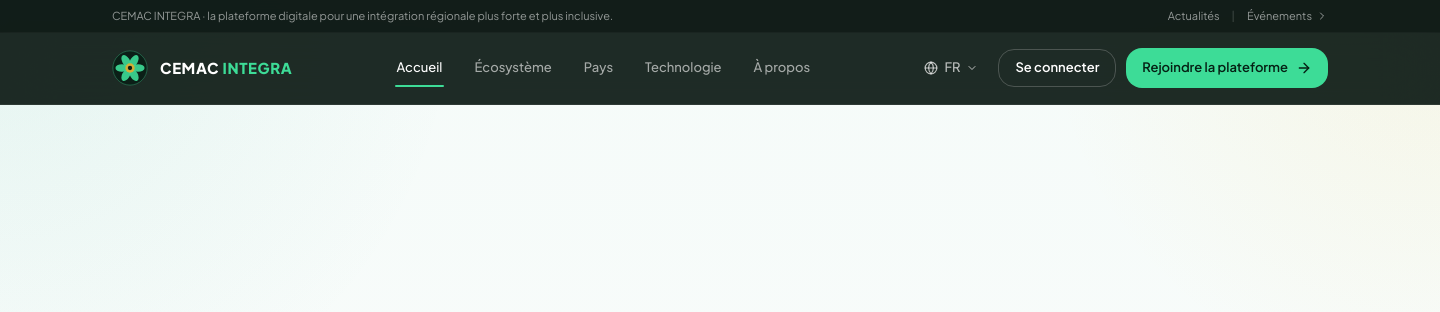
Scenario: LandingNav — language switcher › opens language dropdown on click
This screenshot has width=1440, height=312.
Click the button "FR" at [951, 68], box [914,50,988,86]
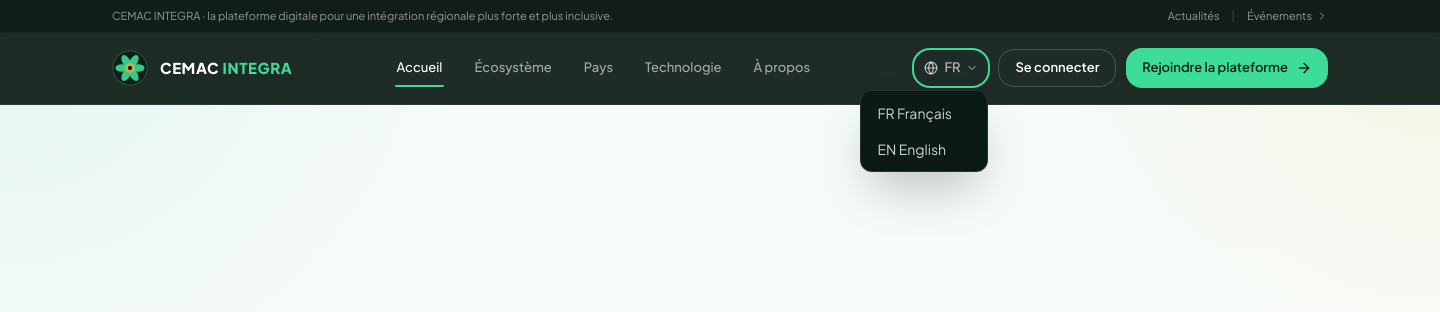
Expected: the button "FR Français" is shown, [861,95,987,131]
Expected: the button "EN English" is shown, [861,131,987,167]
